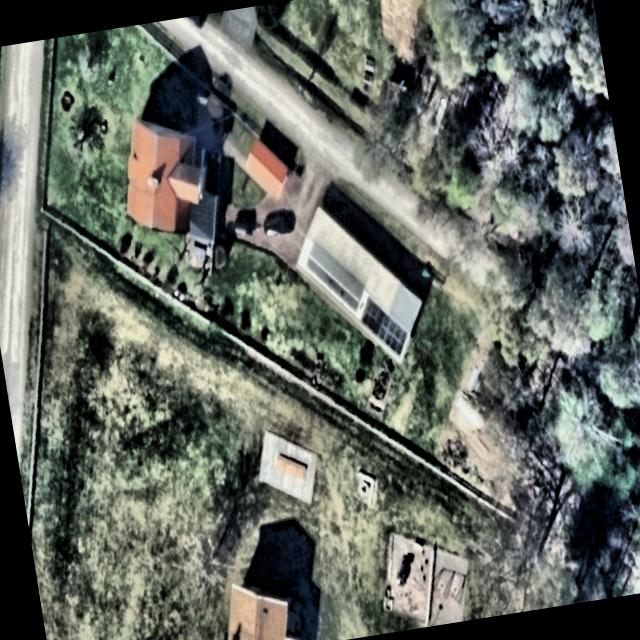roof_pv: (357, 291, 412, 364)
